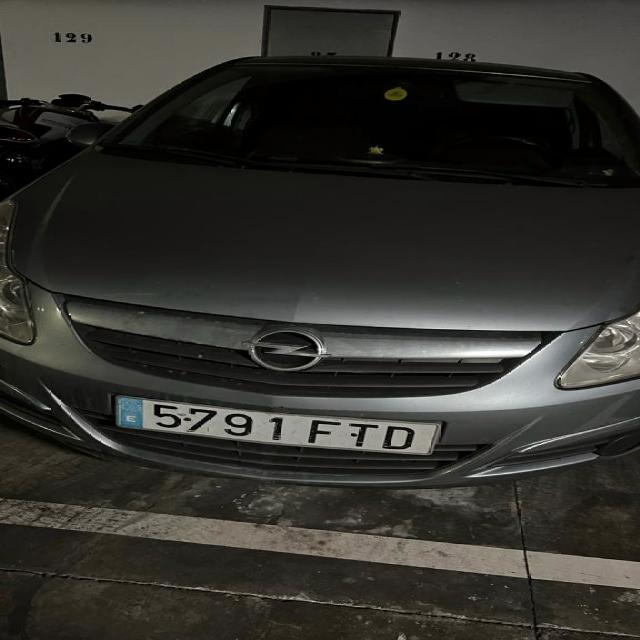License-Plate: (108, 391, 441, 460)
